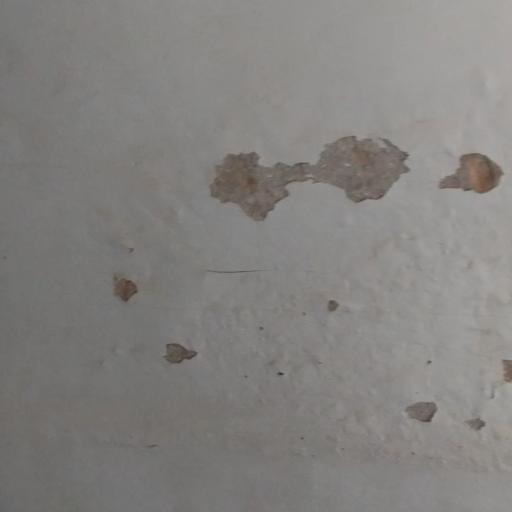peeling: (197, 123, 512, 244), (388, 383, 449, 433), (148, 328, 208, 376), (96, 258, 145, 314), (452, 403, 498, 439), (485, 343, 512, 387), (322, 285, 346, 323)
